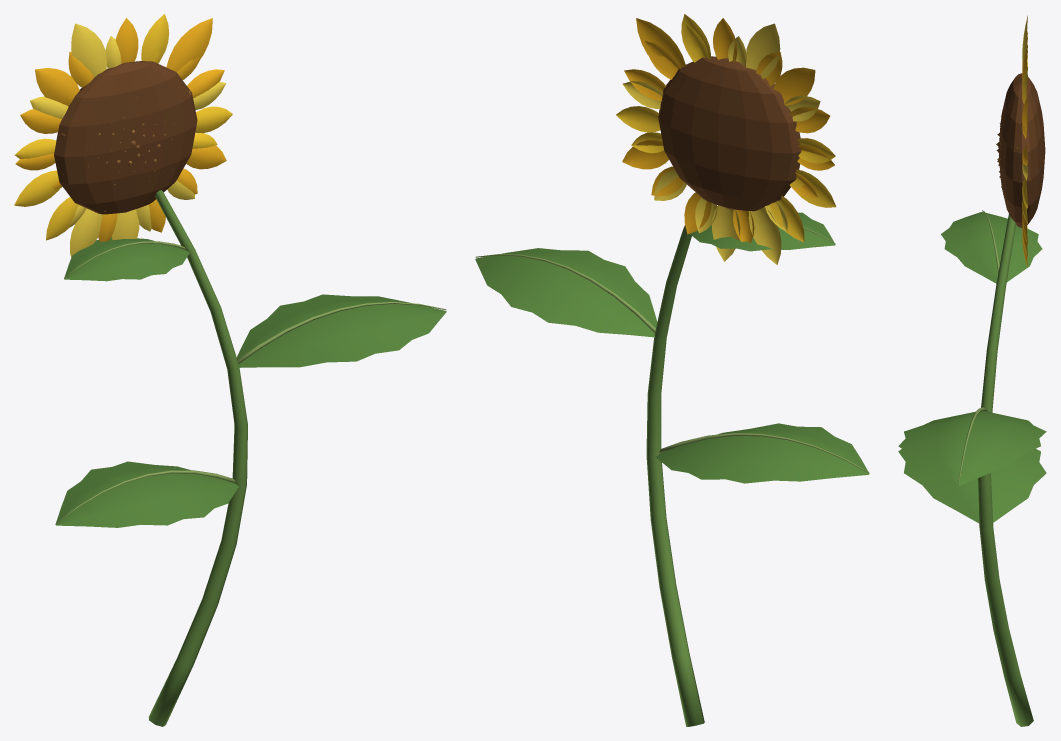
File: sunflower-test-bloom-3-3.glb
The picture shows the model from 3 angles, left to right: view 1: azimuth 30°, elevation 25°; view 2: azimuth 150°, elevation 25°; view 3: azimuth 270°, elevation 25°; orthographic projection. The views are drawn at different scales.
Parts seen in each view (by area): view 1: Curved tapered stem; view 2: Curved tapered stem; view 3: Curved tapered stem.
Part boxes in pixels (bbox=[...]): Curved tapered stem: bbox=[14, 14, 446, 726]; Curved tapered stem: bbox=[475, 14, 869, 726]; Curved tapered stem: bbox=[898, 15, 1046, 726].
Size of the model in its own units: 0.4199 by 0.7312 by 0.1462.
